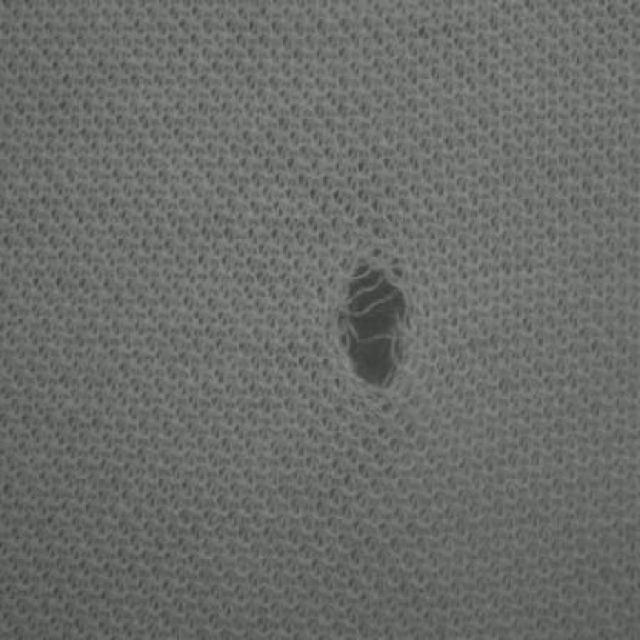Hole: (337, 265, 409, 389)
